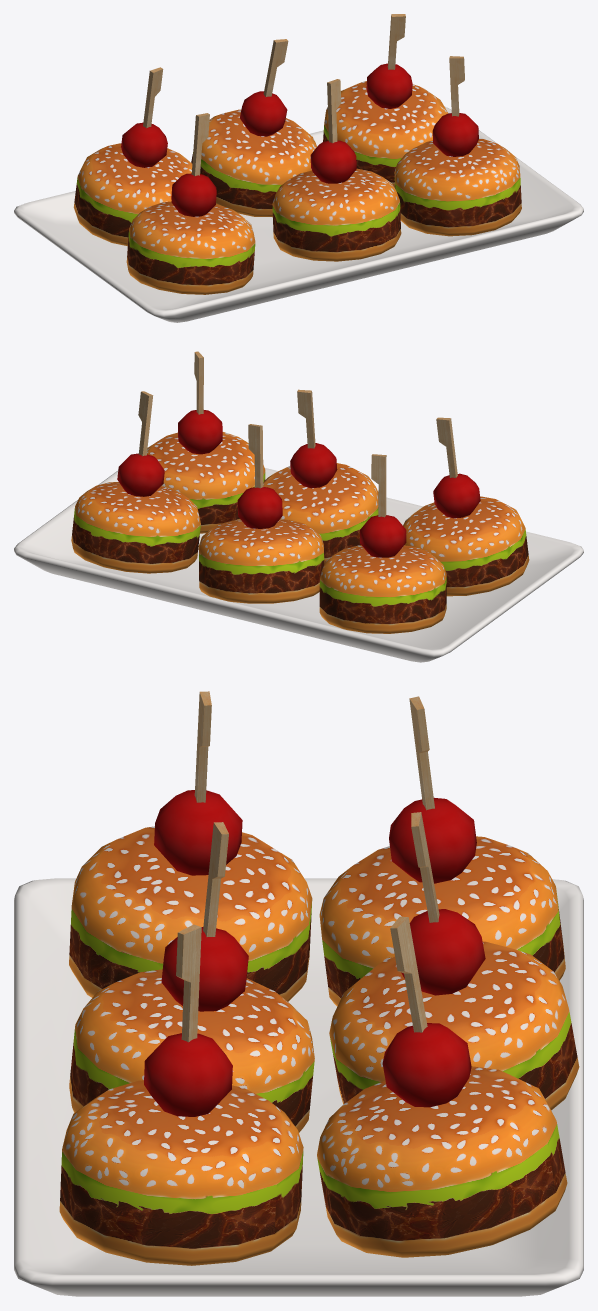
Rendered from BuffetSnacks01_2.FBX.
3 renders of one model, top to bottom at view 1: azimuth 30°, elevation 25°; view 2: azimuth 150°, elevation 25°; view 3: azimuth 270°, elevation 25°, orthographic. The views are drawn at different scales.
Parts seen in each view (by area): view 1: BuffetSnacks01_2; view 2: BuffetSnacks01_2; view 3: BuffetSnacks01_2.
Boxes of the visible parts, box(x1,y1,x2,y2) form: BuffetSnacks01_2: box(14, 14, 583, 322); BuffetSnacks01_2: box(14, 351, 583, 662); BuffetSnacks01_2: box(14, 691, 583, 1296).
Size of what is drawn, in the model's own units: 0.4959 by 0.1817 by 0.2973.
